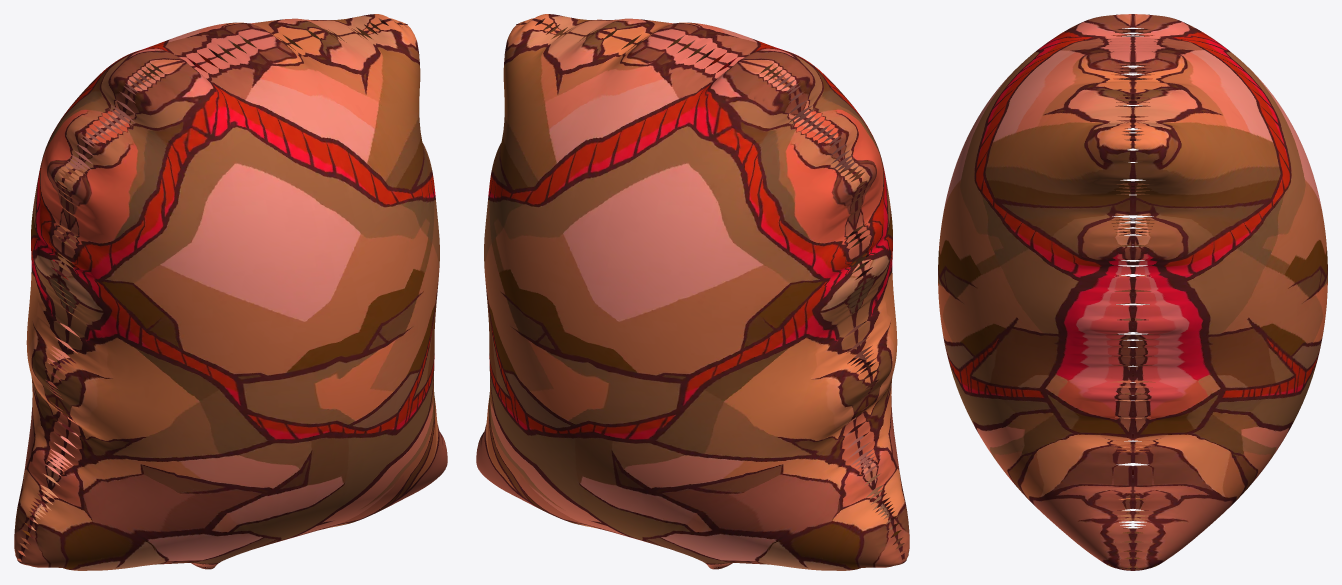
File: cliff_section.glb
3 views of the same model, side by side, from view 1: azimuth 30°, elevation 25°; view 2: azimuth 150°, elevation 25°; view 3: azimuth 270°, elevation 25° (orthographic). The views are drawn at different scales.
Visible parts, largest first — view 1: cliff_section; view 2: cliff_section; view 3: cliff_section.
Part boxes in pixels (left/top/right/bottom): cliff_section: left=14, top=14, right=447, bottom=570; cliff_section: left=476, top=14, right=909, bottom=570; cliff_section: left=938, top=14, right=1327, bottom=570.
Bounding box in the file's own units: 0.9865 × 1.08 × 0.8515.
Materials: 1 (1 with a texture image).
